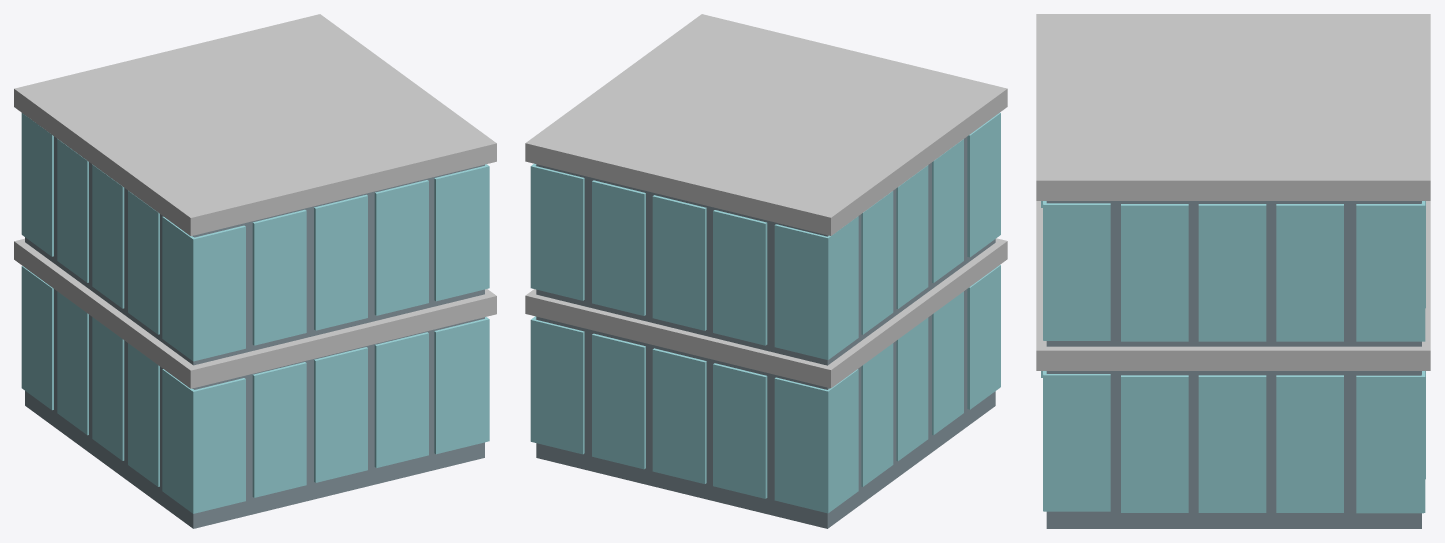
Rendered from modernofficemid.glb.
3 views of the same model, side by side, from view 1: azimuth 30°, elevation 25°; view 2: azimuth 150°, elevation 25°; view 3: azimuth 270°, elevation 25° (orthographic). The views are drawn at different scales.
Parts seen in each view (by area): view 1: Cube.003, Cube, Cube.002, Cube.025, Cube.029, Cube.007, Cube.011, Cube.030, Cube.032, Cube.035, Cube.033, Cube.034 (+9 smaller); view 2: Cube.003, Cube, Cube.002, Cube.021, Cube.017, Cube.010, Cube.020, Cube.014, Cube.016, Cube.019, Cube.008, Cube.018 (+9 smaller); view 3: Cube.003, Cube, Cube.002, Cube.010, Cube.008, Cube.006, Cube.013, Cube.007, Cube.011, Cube.004, Cube.005, Cube.001 (+1 smaller).
Boxes of the visible parts, <box> form: Cube.003: <box>14,14,496,236</box>; Cube: <box>25,136,484,528</box>; Cube.002: <box>14,238,496,388</box>; Cube.025: <box>162,216,245,361</box>; Cube.029: <box>162,369,245,513</box>; Cube.007: <box>434,317,489,454</box>; Cube.011: <box>434,164,489,301</box>; Cube.030: <box>374,180,428,315</box>; Cube.032: <box>252,209,306,345</box>; Cube.035: <box>252,362,306,497</box>; Cube.033: <box>374,332,428,467</box>; Cube.034: <box>314,347,367,482</box>; Cube.003: <box>525,14,1007,235</box>; Cube: <box>536,137,995,528</box>; Cube.002: <box>525,238,1007,388</box>; Cube.021: <box>774,369,858,513</box>; Cube.017: <box>774,216,858,359</box>; Cube.010: <box>530,316,584,454</box>; Cube.020: <box>713,363,767,498</box>; Cube.014: <box>652,195,706,330</box>; Cube.016: <box>713,210,767,345</box>; Cube.019: <box>652,348,706,483</box>; Cube.008: <box>530,163,584,300</box>; Cube.018: <box>592,333,645,469</box>; Cube.003: <box>1036,14,1430,200</box>; Cube: <box>1046,201,1421,528</box>; Cube.002: <box>1036,201,1430,370</box>; Cube.010: <box>1356,371,1425,513</box>; Cube.008: <box>1356,201,1425,341</box>; Cube.006: <box>1198,204,1266,341</box>; Cube.013: <box>1198,375,1266,512</box>; Cube.007: <box>1043,371,1110,511</box>; Cube.011: <box>1043,201,1110,340</box>; Cube.004: <box>1121,204,1188,341</box>; Cube.005: <box>1276,204,1343,341</box>; Cube.001: <box>1121,375,1188,512</box>.
Size of the model in its own units: 2.1 by 2.07 by 2.1.
